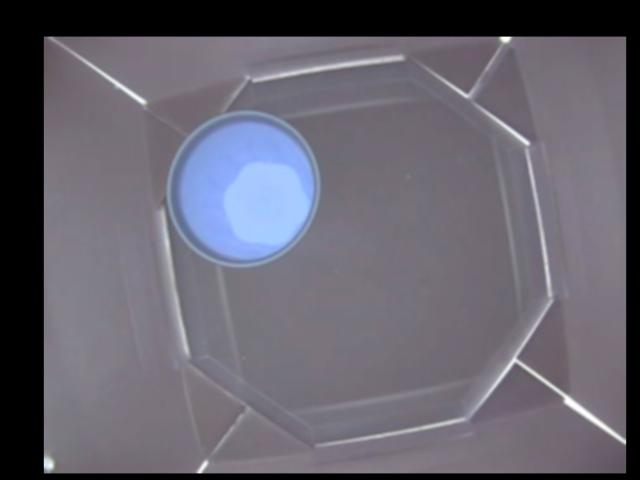Cup: (166, 109, 319, 266)
